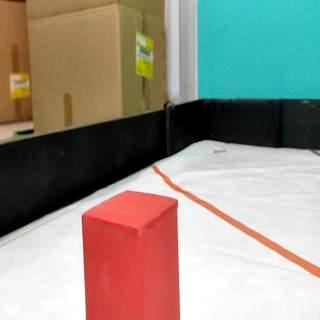redbox: (81, 187, 179, 320)
